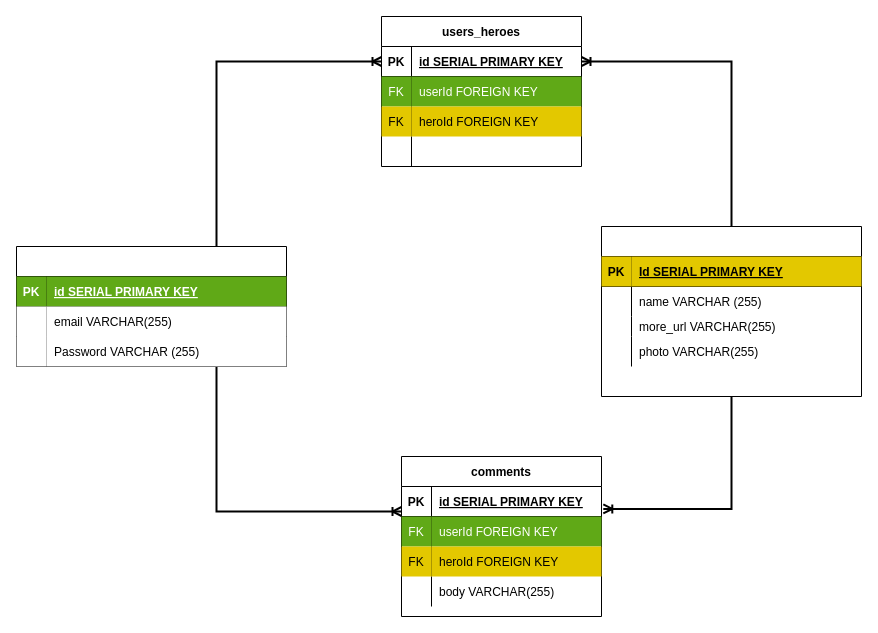
The diagram is 878 pixels wide and 633 high, and some of its shapes have lost their labels. The box of each missing label's shape, as (x1, y1, x2, y2) in pixels:
heroes: (600, 226, 862, 396)
users: (16, 246, 286, 366)
